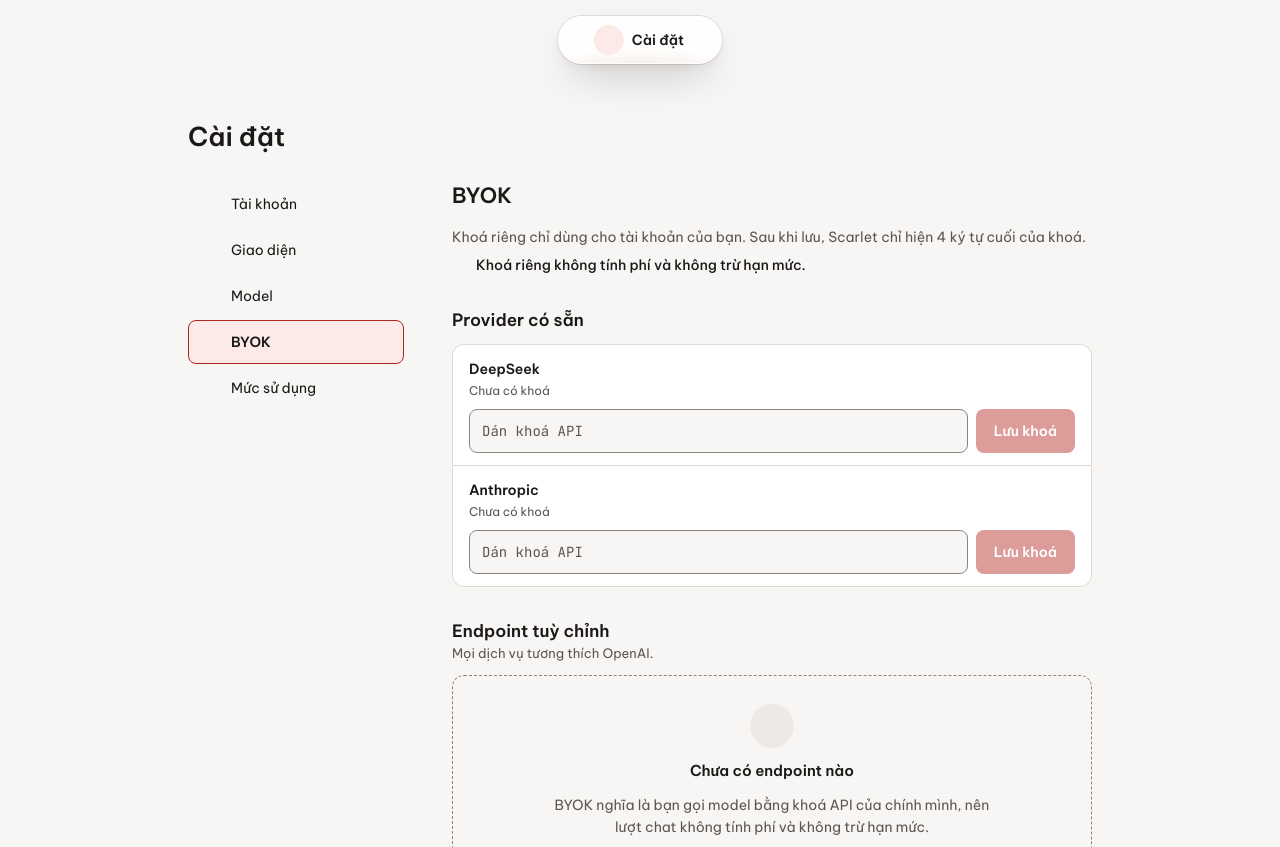
Scenario: BYOK — provider › 28. provider tu choi ⇒ noi ro, va o nhap VAN bi xoa
Type "sk-banro-KHONG-DUOC-HIEN-1234567890" into the password field labelled "DeepSeek" at (718, 431), box [469,409,968,453]
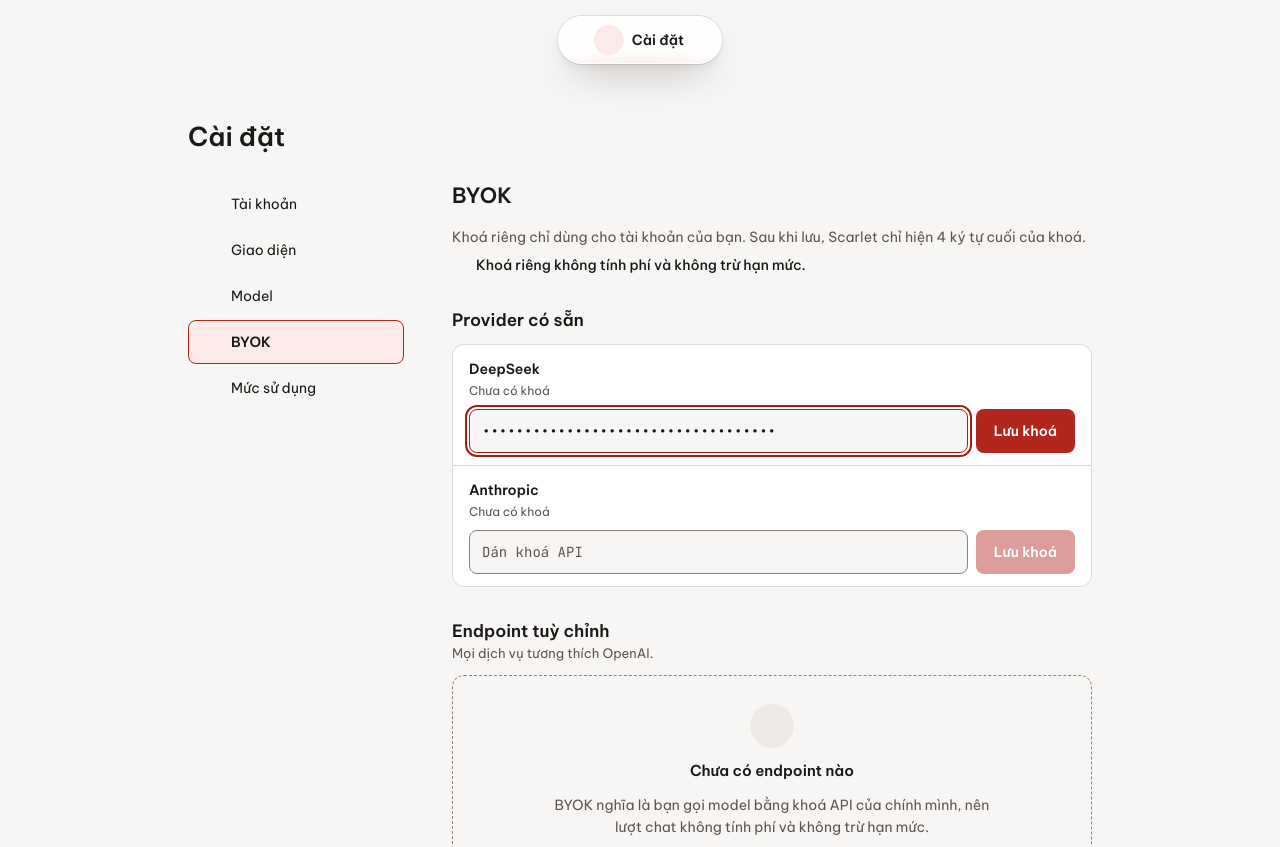
Click the 1st button "Lưu khoá" at (1025, 431), box [976,409,1075,453]
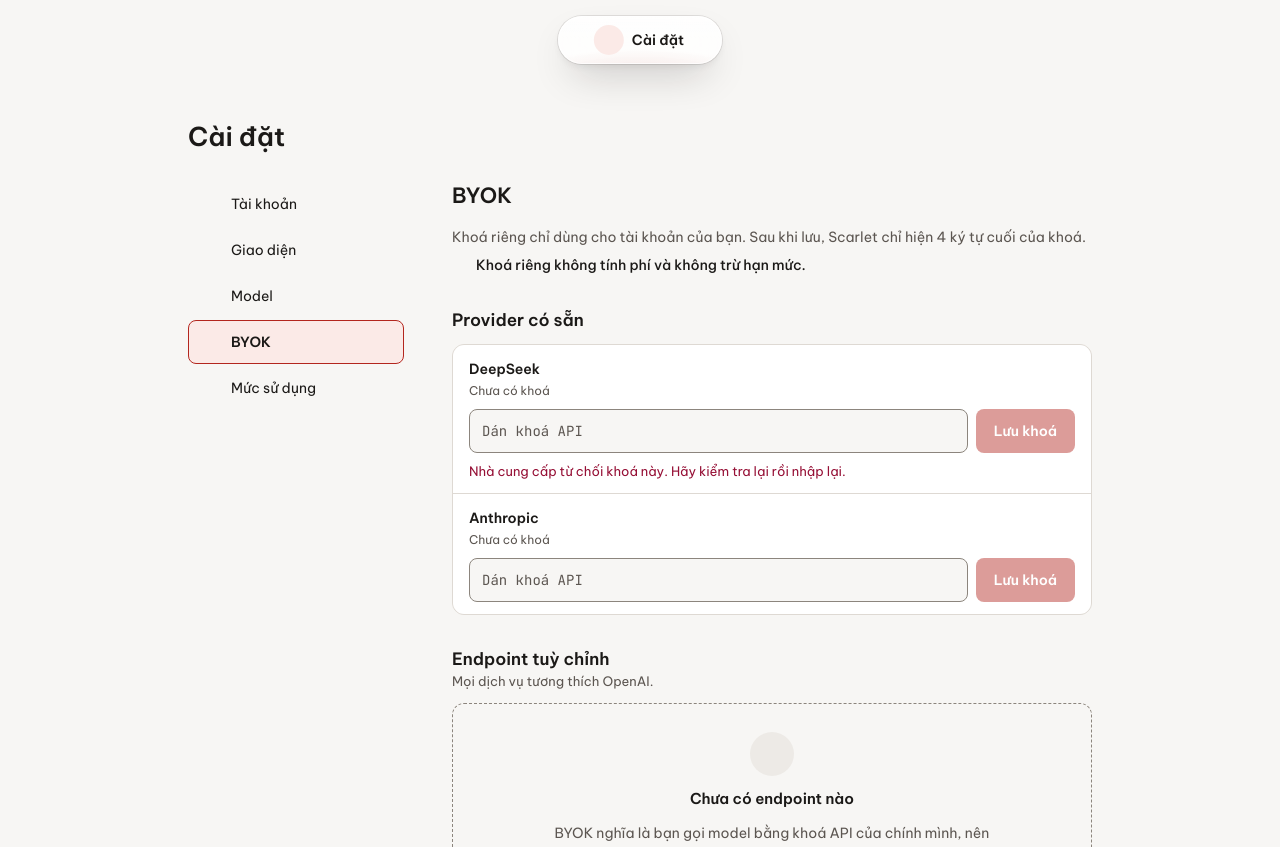
Expected: the message shows "Nhà cung cấp từ chối khoá này", [469,463,846,479]
Expected: the password field labelled "DeepSeek" is empty, [469,409,968,453]
